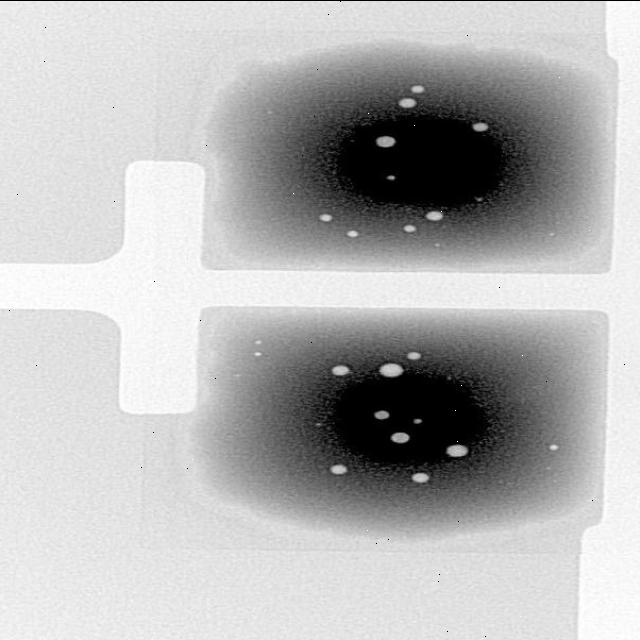Chip: (205, 41, 610, 271), (195, 309, 604, 536)
void: (380, 363, 404, 376), (445, 444, 469, 456), (375, 136, 395, 147), (412, 472, 430, 482), (399, 97, 417, 107), (390, 433, 409, 442), (332, 365, 350, 374), (330, 465, 347, 474), (425, 212, 443, 220), (471, 122, 488, 130), (411, 85, 424, 92), (347, 230, 359, 236)
